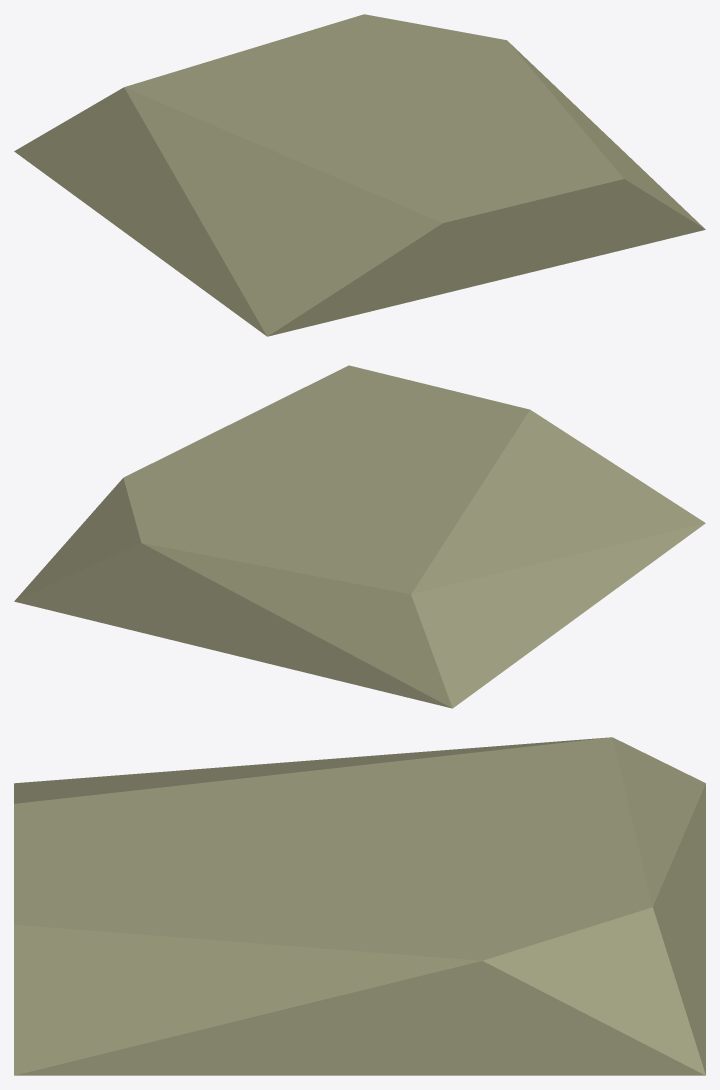
File: stone1.fbx
3 renders of one model, top to bottom at view 1: azimuth 30°, elevation 25°; view 2: azimuth 150°, elevation 25°; view 3: azimuth 270°, elevation 25°, orthographic. The views are drawn at different scales.
Parts seen in each view (by area): view 1: Mesh4; view 2: Mesh4; view 3: Mesh4.
Part boxes in pixels (x1,y1,x2,y2): Mesh4: (14,14,705,336); Mesh4: (14,365,705,708); Mesh4: (14,737,705,1075).
Size of the model in its own units: 100 by 15.4 by 100.
